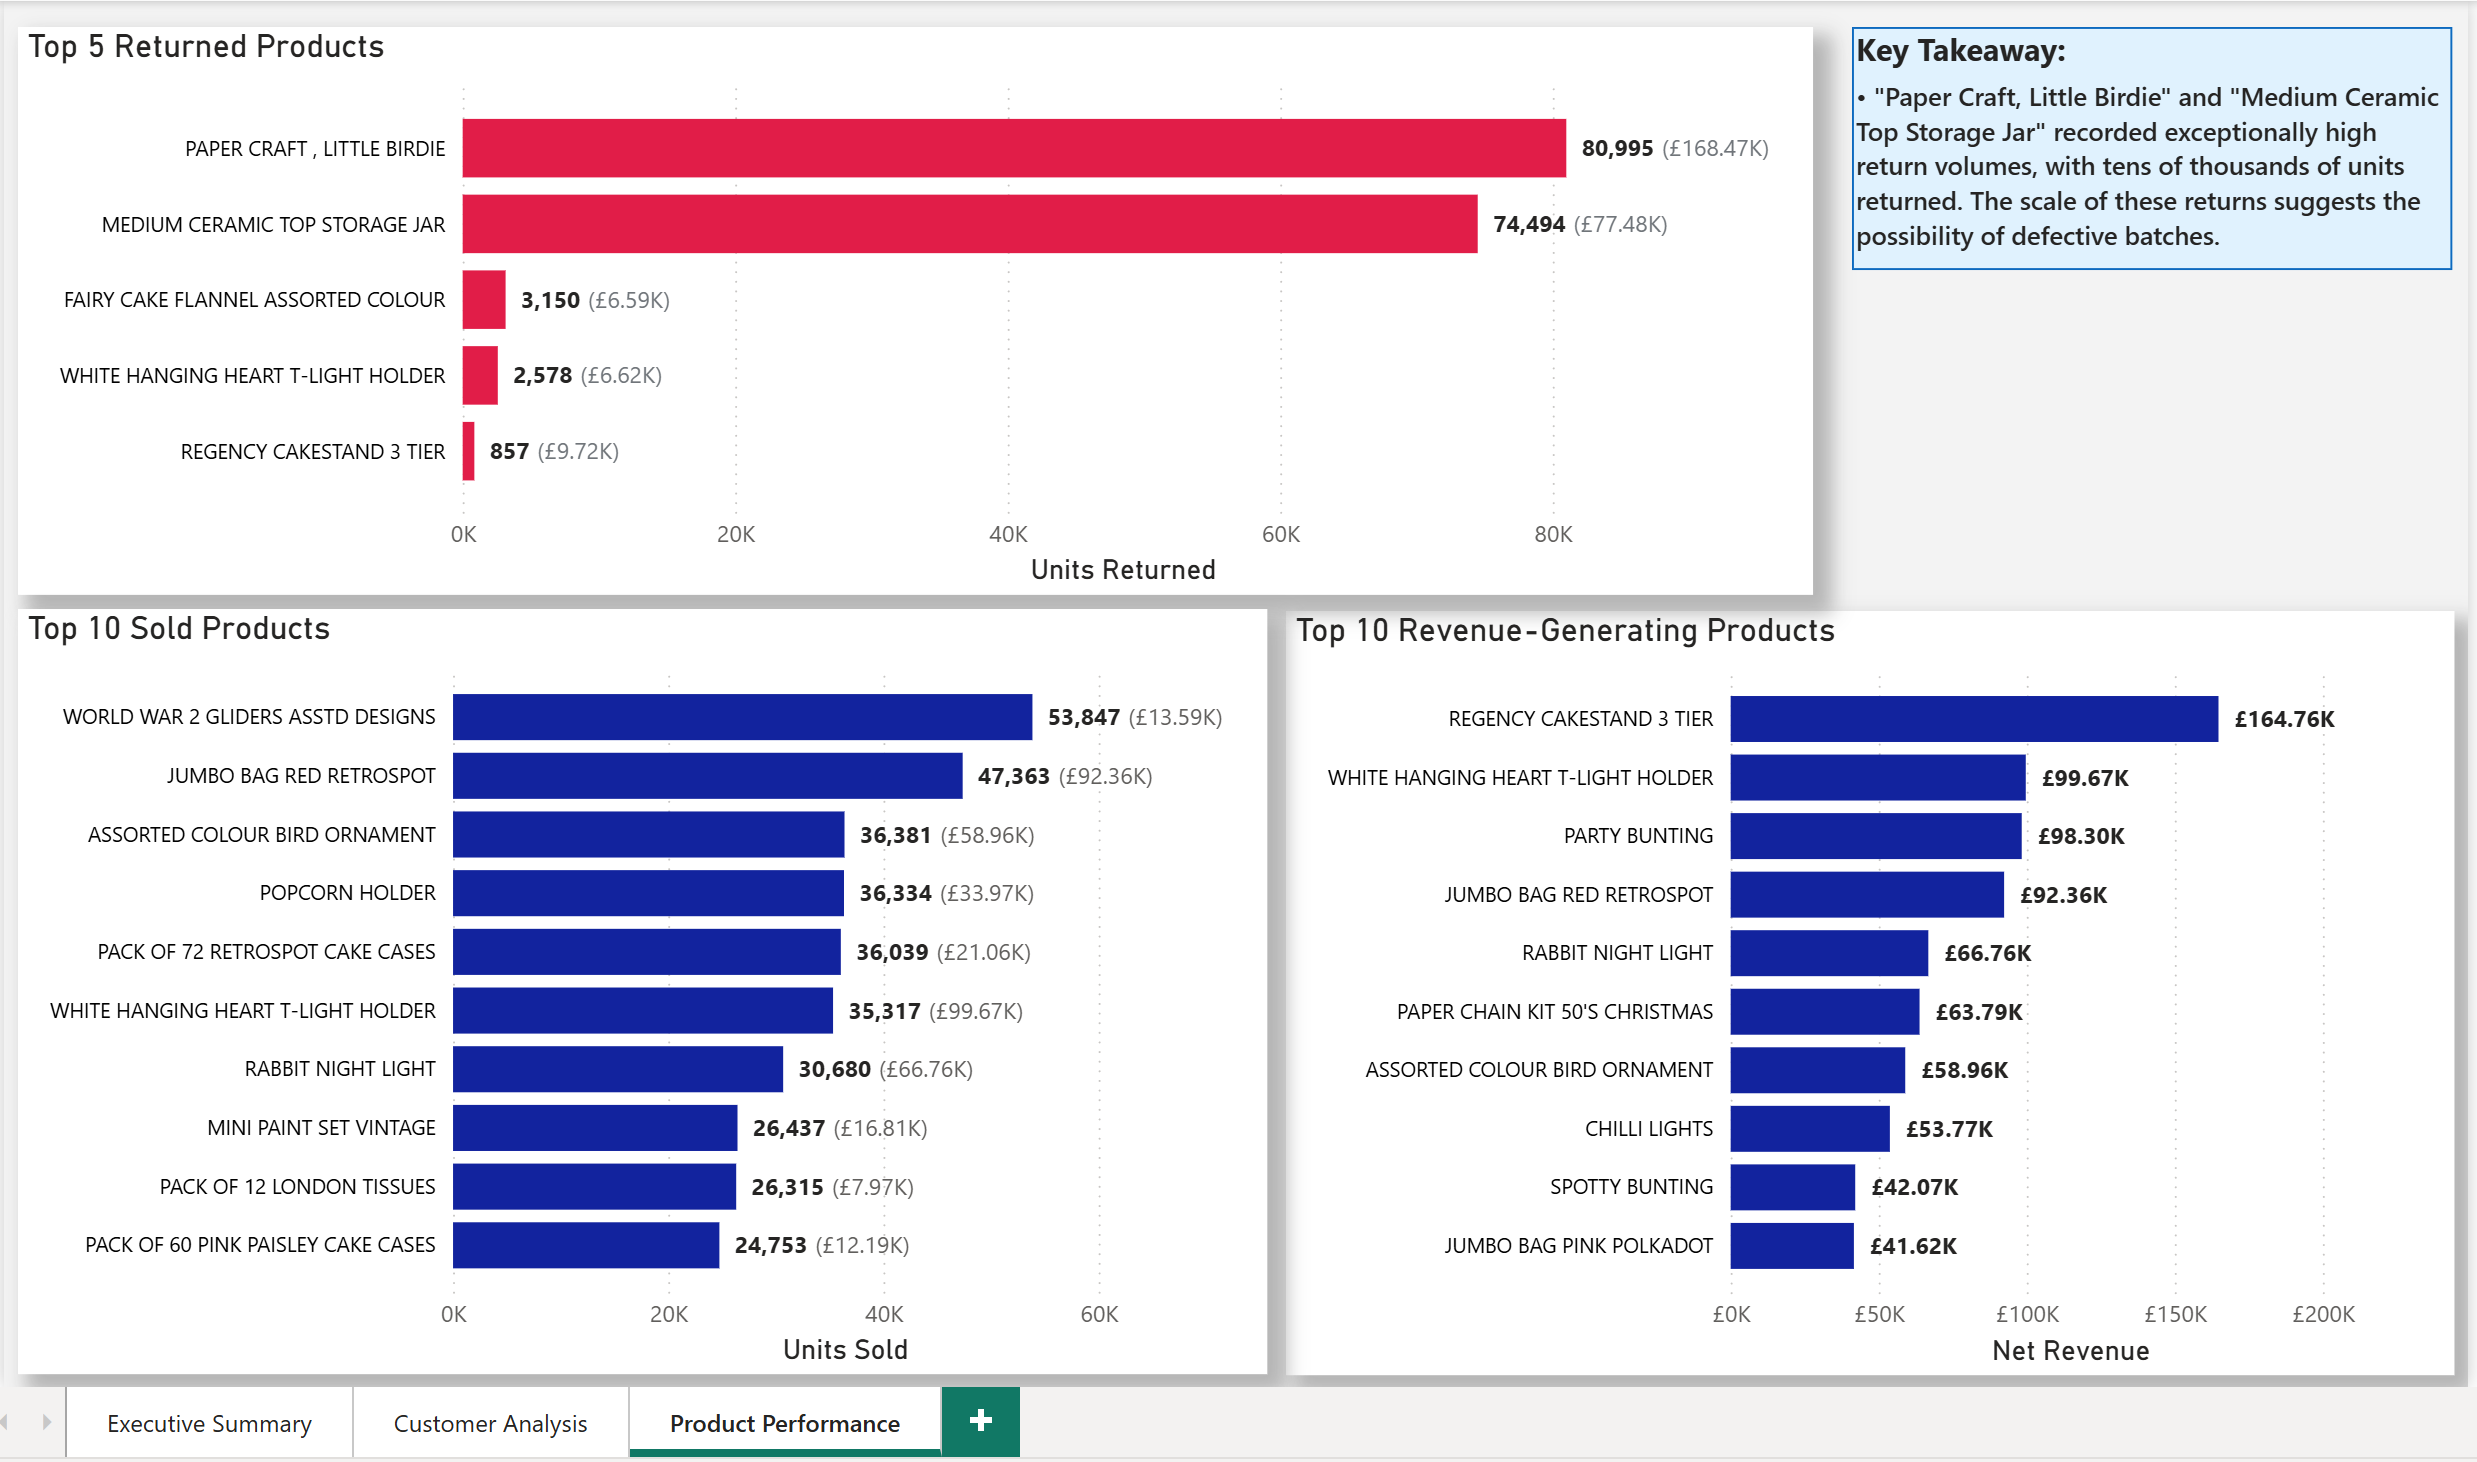

What the dashboard file says about the page in this screenshot:
{"tool":"powerbi","page":{"name":"Product Performance","canvas":[1280,720],"ordinal":2},"visuals":[{"type":"clusteredBarChart","title":"Top 10 Revenue-Generating Products","fields":{"Category":["data.Description"],"Y":["#Measures.Net Revenue"]},"box":[666,316.9,606.8,396.9],"z":0},{"type":"clusteredBarChart","title":"Top 5 Returned Products","fields":{"Category":["data.Description"],"Y":["#Measures.Number of Returns"]},"box":[7.3,13.6,932.6,294.9],"z":1000},{"type":"shape","box":[960,14,311.9,126.3],"z":3000},{"type":"shape","title":"Key Takeaway:","box":[962.1,13.5,310.6,128.8],"z":4000},{"type":"pivotTable","fields":{"Rows":["data.Description"],"Values":["#Measures.Total Volume Sold","#Measures.Volume Last 3 Months"]},"box":[1230.6,694.9,12.4,12.4],"z":7000},{"type":"clusteredBarChart","title":"Top 10 Sold Products","fields":{"Y":["#Measures.Total Volume Sold"],"Category":["data.Description"]},"box":[7.3,316.3,649,397.7],"z":8000}]}

Visuals, with their boxes on the page's 1280x720 design canvas (x1, y1, x2, y2). These are canvas units, not pixel positions in the 2477x1462 screenshot, which may show the page scaled, cropped or inside an application window:
"Top 10 Revenue-Generating Products" clusteredBarChart: region(666, 317, 1273, 714)
"Top 5 Returned Products" clusteredBarChart: region(7, 14, 940, 308)
shape: region(960, 14, 1272, 140)
"Key Takeaway:" shape: region(962, 14, 1273, 142)
pivotTable - data.Description x #Measures.Total Volume Sold: region(1231, 695, 1243, 707)
"Top 10 Sold Products" clusteredBarChart: region(7, 316, 656, 714)
